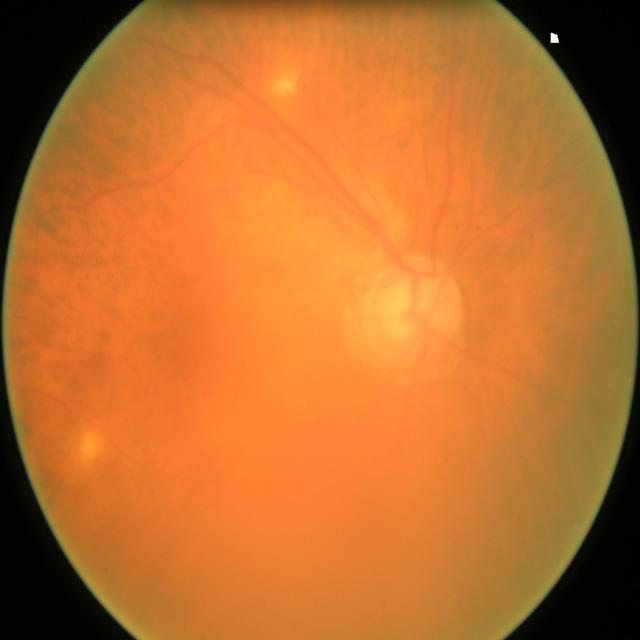OC: (384, 278, 435, 337)
OD: (362, 253, 462, 370)
